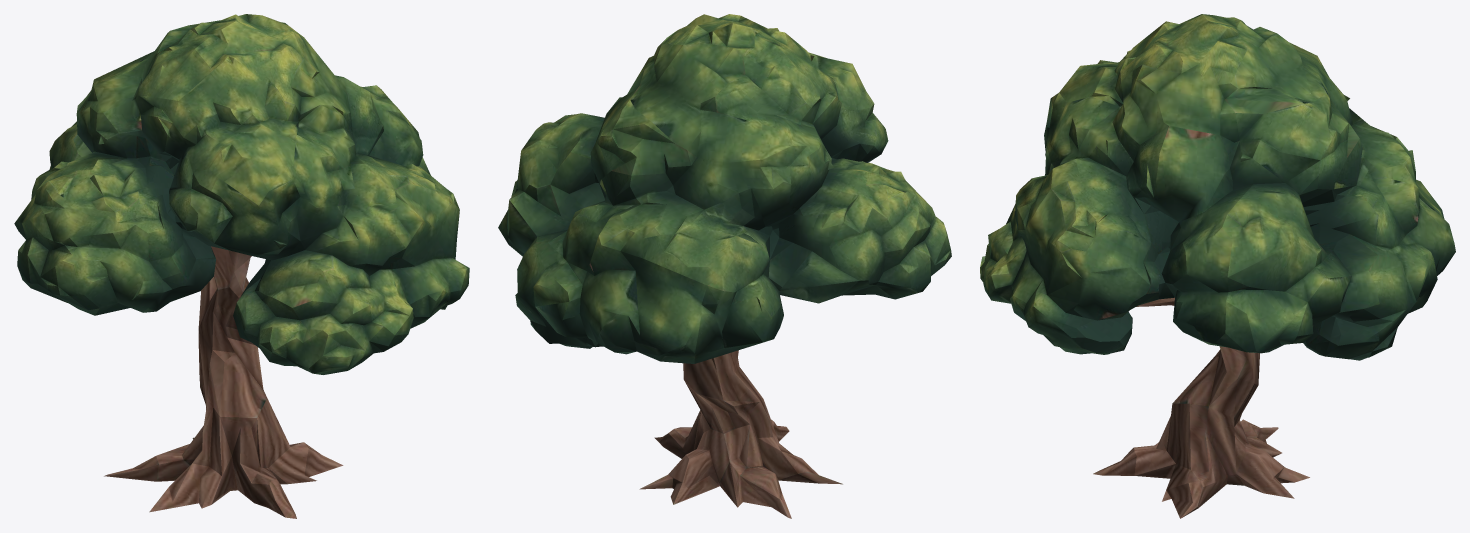
File: tree_oak.glb
3 renders of one model, left to right at view 1: azimuth 30°, elevation 25°; view 2: azimuth 150°, elevation 25°; view 3: azimuth 270°, elevation 25°, orthographic. The views are drawn at different scales.
Bounding box in the file's own units: 1.78 × 1.89 × 1.8.
Materials: 1 (1 with a texture image).
